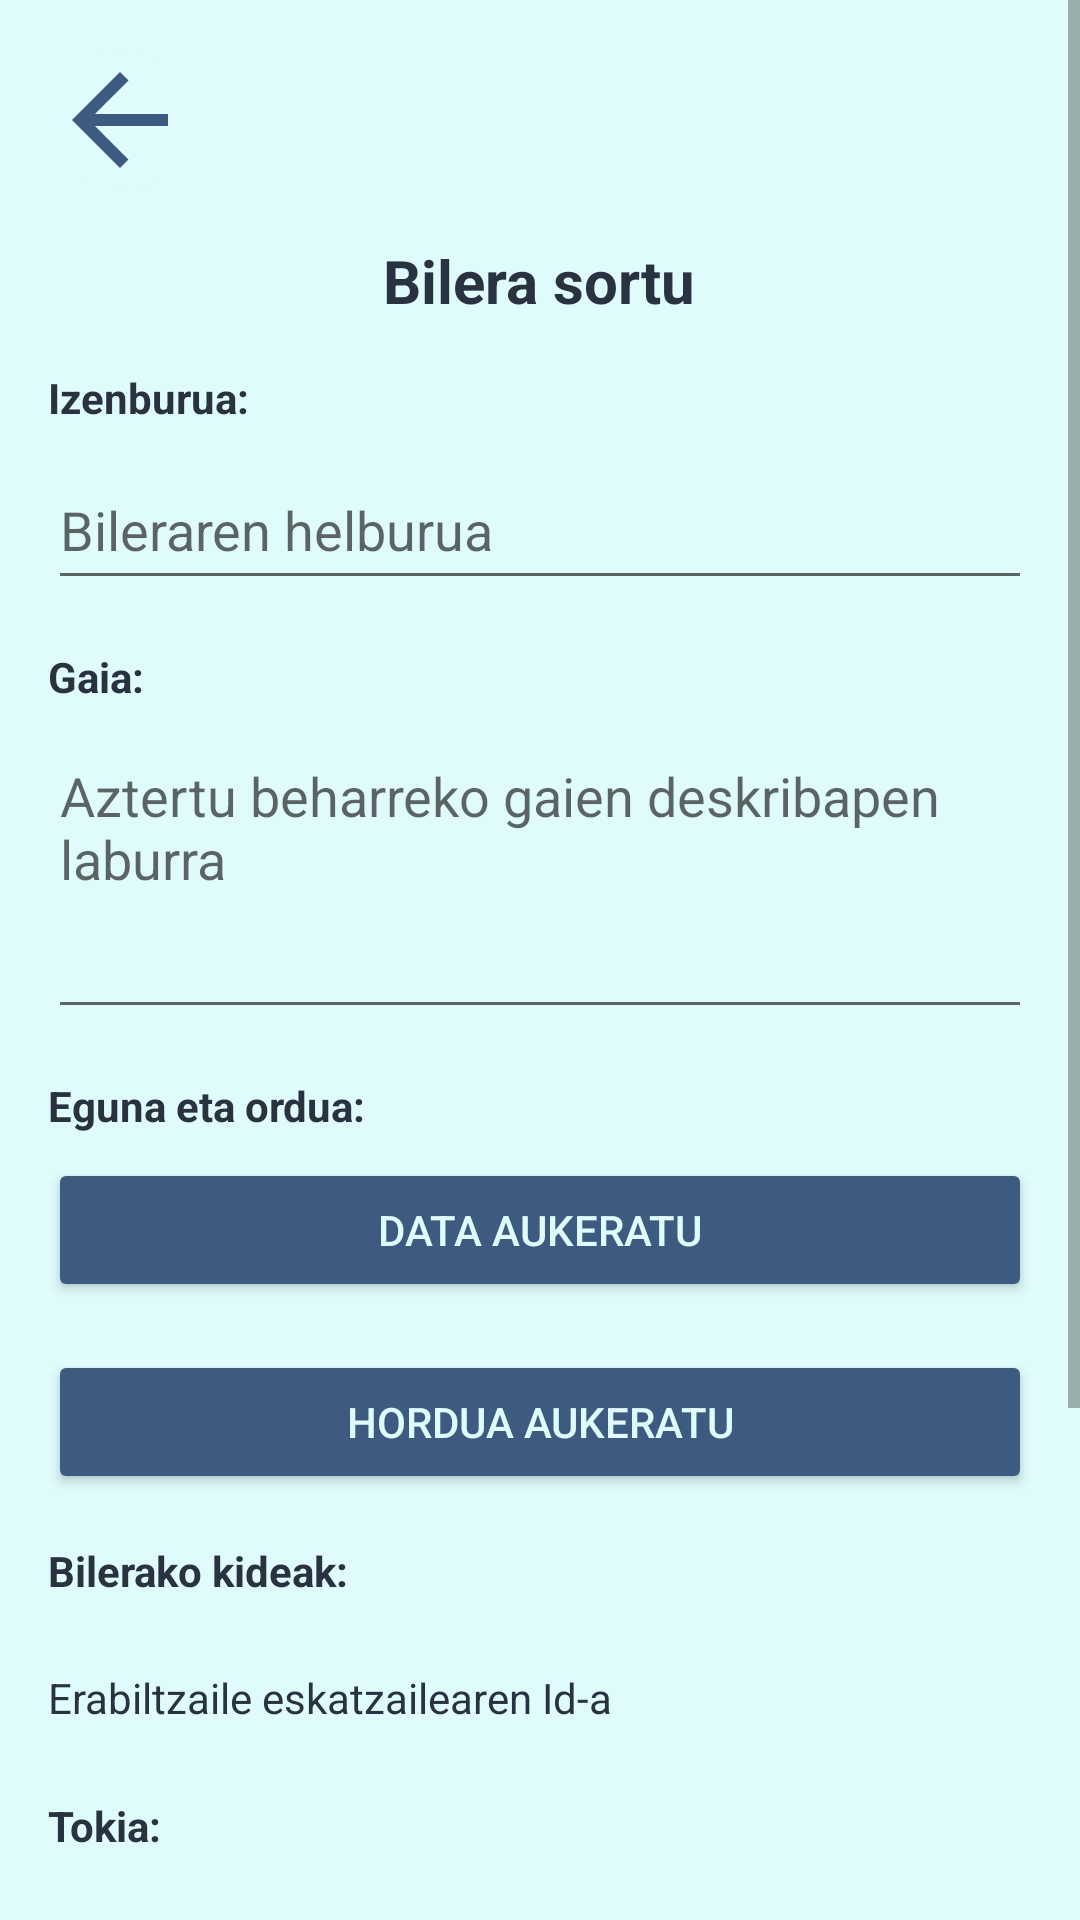

Screen size 1080*1920. Icon name, then its center in pixels as (x,y):
Itzultzeko botoia: (120,120)
